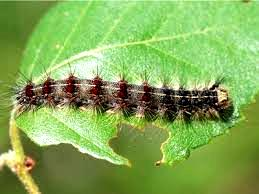Caterpillar: (5, 72, 245, 130)
